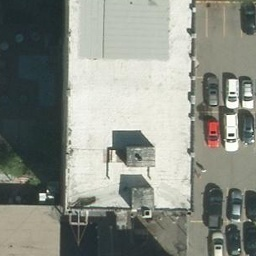car: (206, 69, 222, 112), (224, 110, 240, 150), (224, 226, 243, 255), (240, 78, 256, 112), (207, 191, 223, 225), (227, 187, 243, 221), (240, 187, 256, 221), (205, 115, 221, 148), (223, 76, 238, 110), (206, 229, 224, 255), (243, 110, 256, 145)
